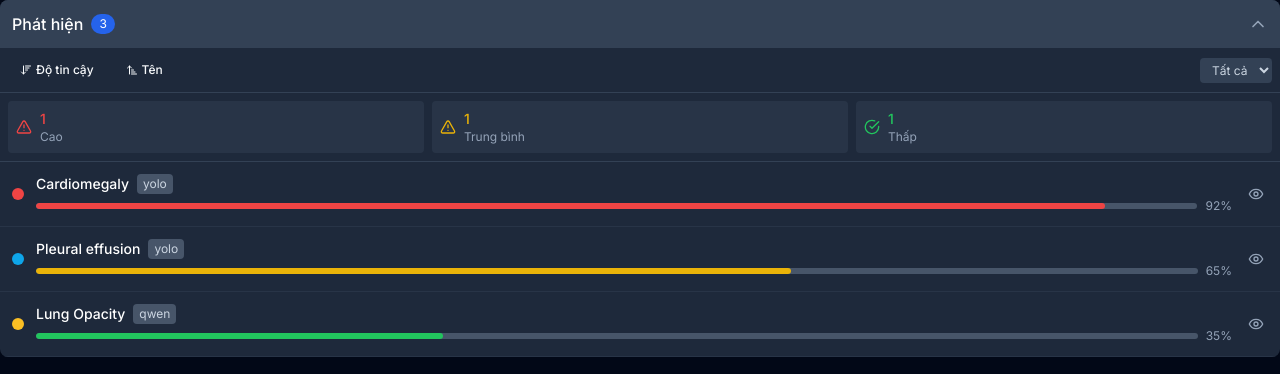
DetectionPanel › filtering › should filter detections by minimum confidence
Expected: the text "Cardiomegaly" is shown, 36,174 -> 129,194
Expected: the text "Pleural effusion" is shown, 36,239 -> 140,259
// Change filter to ≥50%
Select "≥50%" in the dropdown at (1236, 70), box 1200,58 -> 1272,82
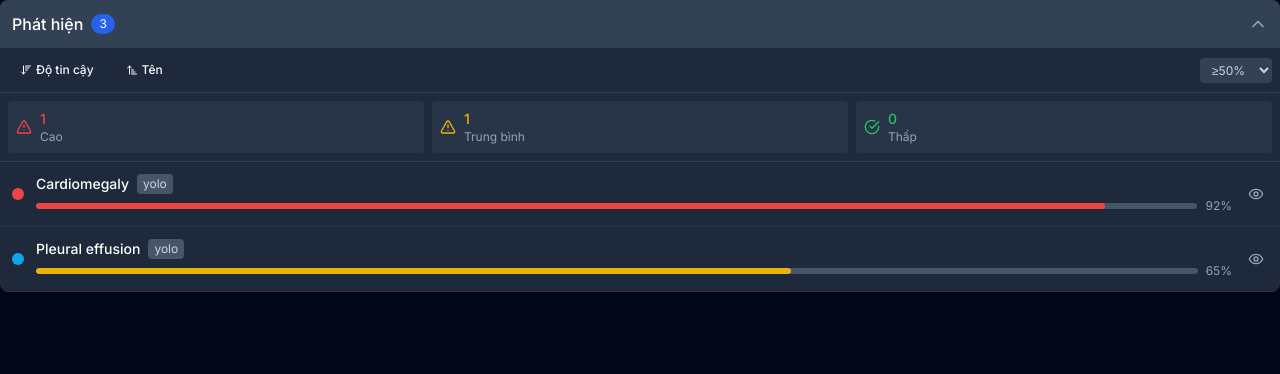
Expected: the text "Cardiomegaly" is shown, 36,174 -> 129,194
Expected: the text "Lung Opacity" is gone
